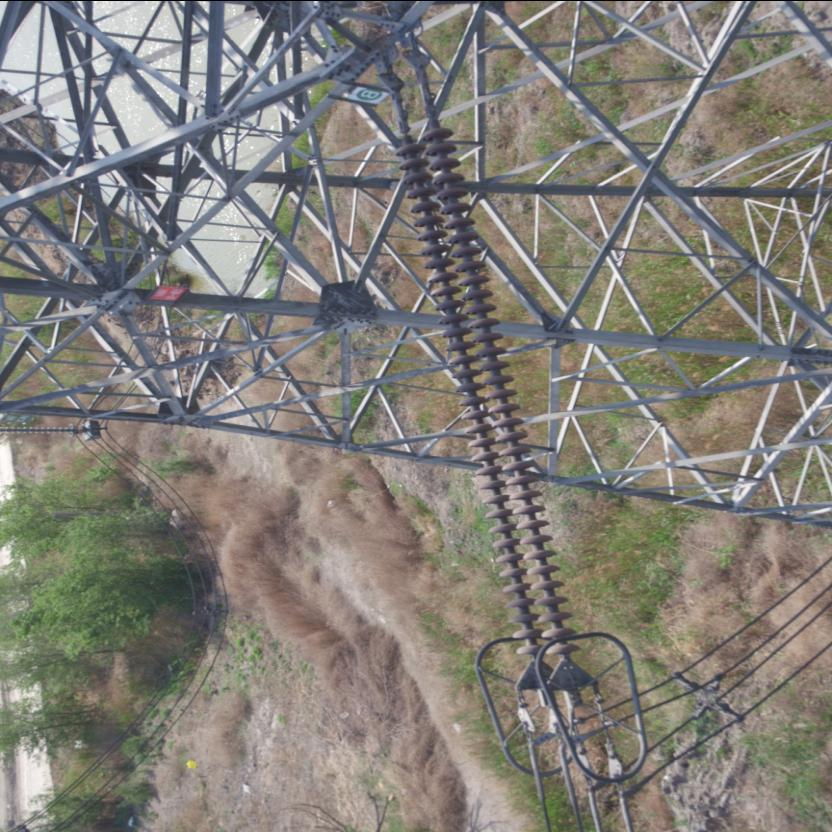insulator: (392, 108, 582, 674)
